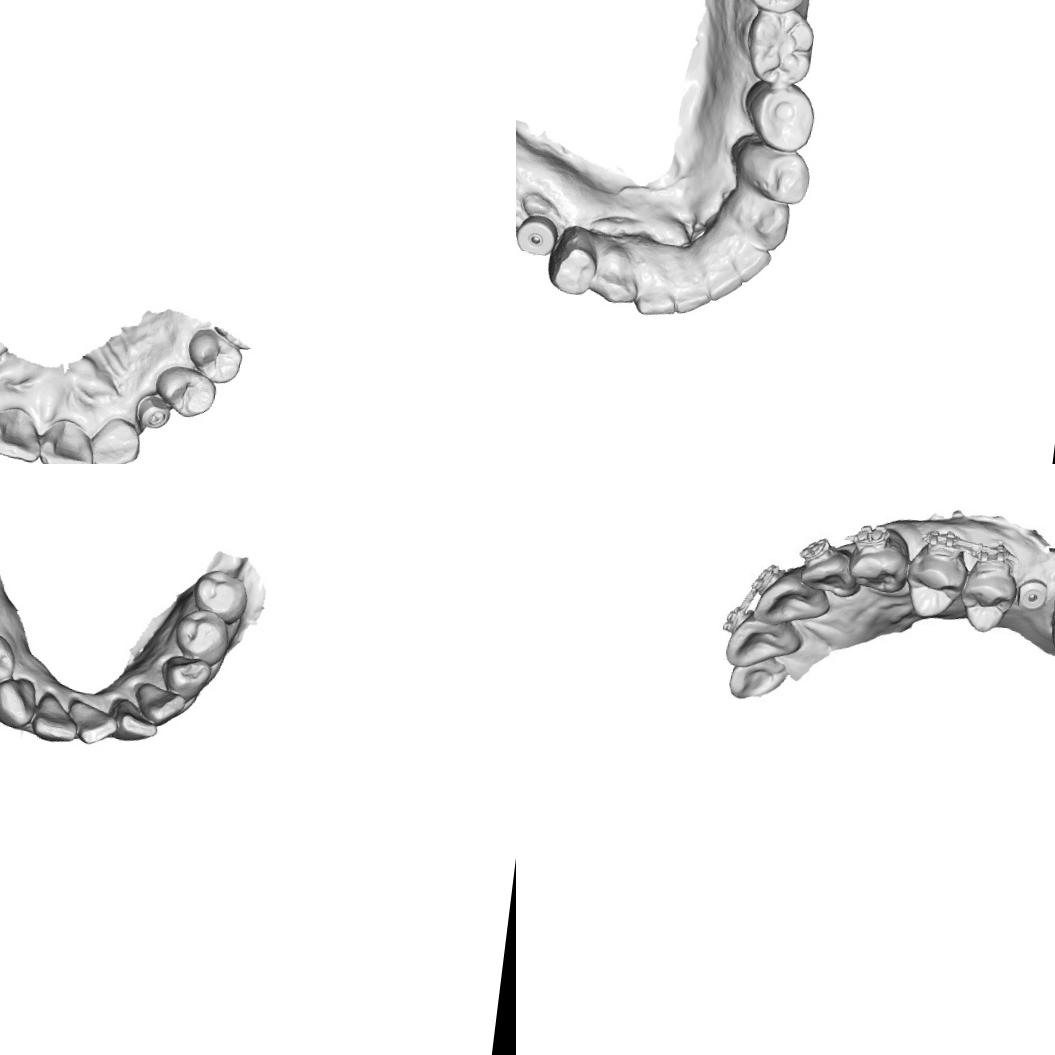canine: (846, 536, 914, 598), (590, 236, 640, 308), (738, 192, 793, 250), (158, 652, 216, 702), (0, 675, 38, 730)
implant: (516, 215, 557, 256), (130, 392, 172, 431), (1016, 572, 1052, 616)
incisor: (750, 567, 834, 631), (724, 615, 808, 677), (796, 548, 864, 606), (724, 651, 790, 706), (34, 413, 100, 464), (86, 412, 144, 464), (29, 688, 81, 746), (65, 693, 119, 747), (0, 401, 46, 464), (132, 680, 188, 730), (112, 700, 164, 746), (700, 256, 745, 306), (728, 241, 774, 286), (633, 278, 677, 320), (672, 272, 712, 316)
molar: (742, 7, 820, 88)
premolar: (954, 550, 1020, 637), (734, 136, 816, 206), (900, 536, 966, 620), (745, 80, 818, 154), (169, 606, 236, 668), (182, 326, 248, 388), (546, 228, 600, 300), (153, 364, 218, 422), (190, 565, 250, 623), (0, 629, 20, 691)
